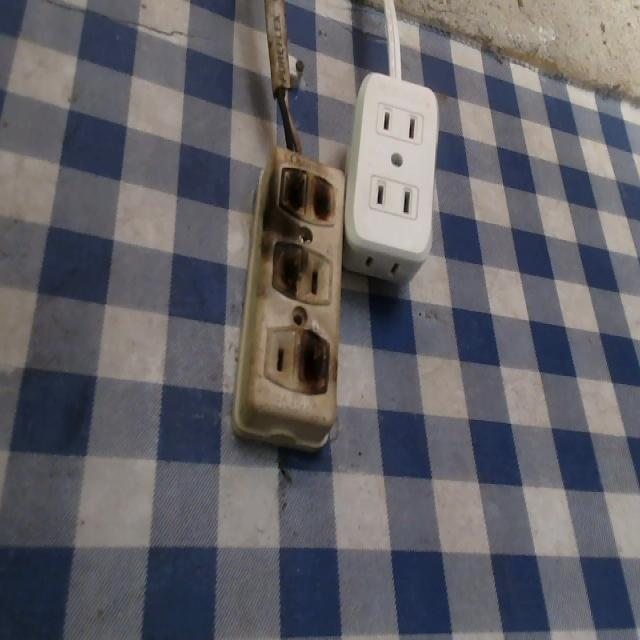-: (271, 157, 353, 227), (290, 320, 339, 400), (261, 233, 306, 310)
